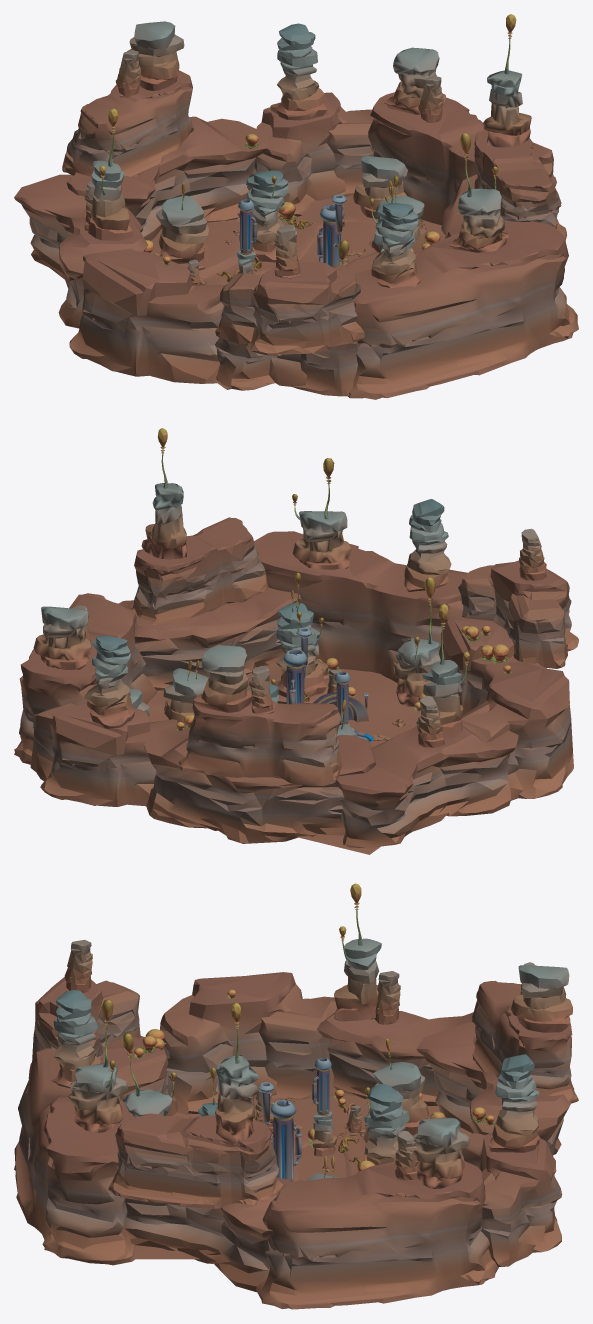
The model's file is Monument Planet.fbx.
The picture shows the model from 3 angles, top to bottom: view 1: azimuth 30°, elevation 25°; view 2: azimuth 150°, elevation 25°; view 3: azimuth 270°, elevation 25°; orthographic projection. The views are drawn at different scales.
Parts seen in each view (by area): view 1: Monument_planet_Colors_0.007, Monument_planet_Colors_0.008, Monument_planet_Colors_0.003, Monument_planet_Colors_0.028, Monument_planet_Colors_0.011, Monument_planet_Colors_0.030, Monument_planet_Colors_0.010, Monument_planet_Colors_0.029, Floor, Monument_planet_Colors_0.009, Monument_planet_Colors_0.095, Monument_planet_Colors_0.013 (+16 smaller); view 2: Monument_planet_Colors_0.007, Monument_planet_Colors_0.029, Monument_planet_Colors_0.028, Monument_planet_Colors_0.010, Monument_planet_Colors_0.011, Monument_planet_Colors_0.008, Monument_planet_Colors_0.095, Monument_planet_Colors_0.006, Monument_planet_Colors_0.003, Monument_planet_Colors_0.030, Floor, Monument_planet_Colors_0.013 (+16 smaller); view 3: Monument_planet_Colors_0.030, Monument_planet_Colors_0.008, Monument_planet_Colors_0.007, Monument_planet_Colors_0.095, Monument_planet_Colors_0.006, Monument_planet_Colors_0.011, Monument_planet_Colors_0.029, Monument_planet_Colors_0.028, Monument_planet_Colors_0.010, Floor, Monument_planet_Colors_0.003, Monument_planet_Colors_0.013 (+15 smaller).
Part boxes in pixels (x1=…): Monument_planet_Colors_0.007: x1=348, y1=221, x2=578, y2=399; Monument_planet_Colors_0.008: x1=69, y1=248, x2=224, y2=383; Monument_planet_Colors_0.003: x1=215, y1=262, x2=364, y2=355; Monument_planet_Colors_0.028: x1=66, y1=116, x2=269, y2=240; Monument_planet_Colors_0.011: x1=247, y1=92, x2=374, y2=216; Monument_planet_Colors_0.030: x1=368, y1=92, x2=567, y2=240; Monument_planet_Colors_0.010: x1=62, y1=70, x2=193, y2=177; Monument_planet_Colors_0.029: x1=14, y1=174, x2=148, y2=328; Floor: x1=151, y1=195, x2=445, y2=388; Monument_planet_Colors_0.009: x1=215, y1=338, x2=361, y2=396; Monument_planet_Colors_0.095: x1=474, y1=130, x2=563, y2=235; Monument_planet_Colors_0.013: x1=270, y1=23, x2=327, y2=120; Monument_planet_Colors_0.007: x1=254, y1=531, x2=467, y2=682; Monument_planet_Colors_0.029: x1=334, y1=725, x2=518, y2=847; Monument_planet_Colors_0.028: x1=144, y1=725, x2=376, y2=843; Monument_planet_Colors_0.010: x1=178, y1=701, x2=342, y2=785; Monument_planet_Colors_0.011: x1=30, y1=703, x2=177, y2=806; Monument_planet_Colors_0.008: x1=461, y1=661, x2=573, y2=800; Monument_planet_Colors_0.095: x1=131, y1=517, x2=268, y2=624; Monument_planet_Colors_0.006: x1=118, y1=587, x2=300, y2=692; Monument_planet_Colors_0.003: x1=458, y1=560, x2=578, y2=668; Monument_planet_Colors_0.030: x1=14, y1=593, x2=157, y2=764; Floor: x1=147, y1=662, x2=421, y2=854; Monument_planet_Colors_0.013: x1=84, y1=635, x2=134, y2=728; Monument_planet_Colors_0.030: x1=257, y1=1161, x2=498, y2=1309; Monument_planet_Colors_0.008: x1=160, y1=972, x2=337, y2=1114; Monument_planet_Colors_0.007: x1=14, y1=1048, x2=134, y2=1265; Monument_planet_Colors_0.095: x1=108, y1=1113, x2=282, y2=1208; Monument_planet_Colors_0.006: x1=124, y1=1177, x2=291, y2=1292; Monument_planet_Colors_0.011: x1=461, y1=1133, x2=562, y2=1267; Monument_planet_Colors_0.029: x1=311, y1=996, x2=473, y2=1105; Monument_planet_Colors_0.028: x1=416, y1=1022, x2=571, y2=1173; Monument_planet_Colors_0.010: x1=471, y1=980, x2=578, y2=1103; Floor: x1=131, y1=1095, x2=472, y2=1259; Monument_planet_Colors_0.003: x1=32, y1=977, x2=140, y2=1061; Monument_planet_Colors_0.013: x1=489, y1=1054, x2=539, y2=1152.
Size of the model in its own units: 14907 by 7371 by 13949.
